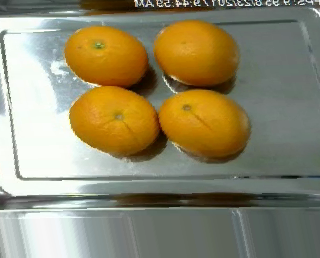Orange: (158, 88, 249, 158), (68, 85, 159, 154), (154, 19, 240, 84), (65, 25, 150, 85)
